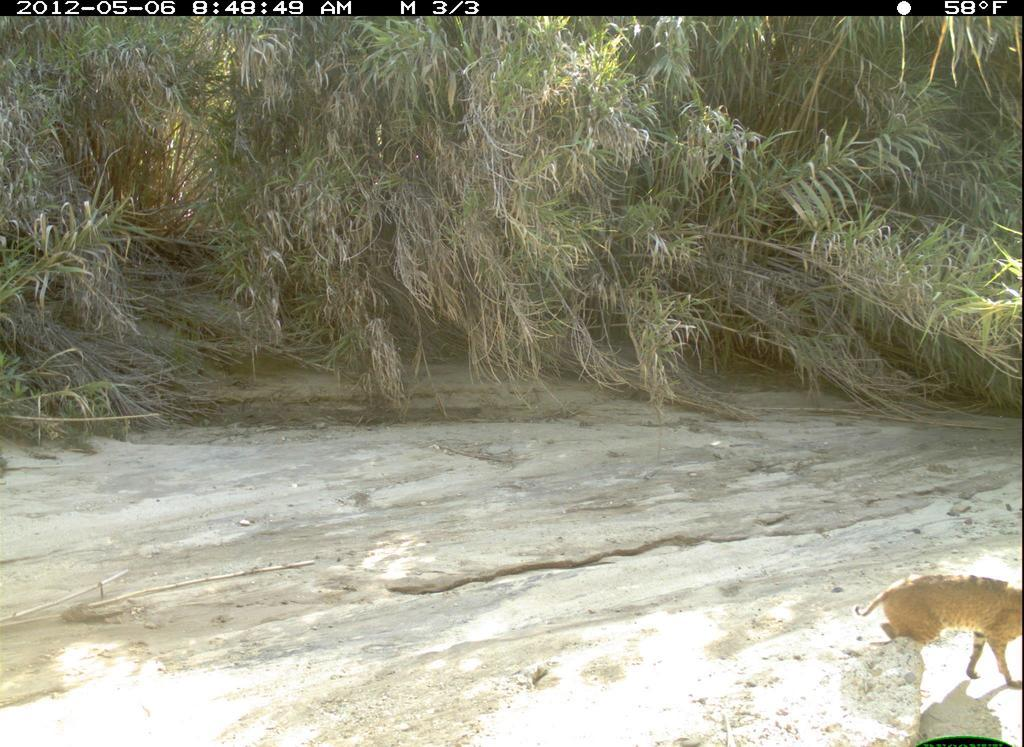bobcat: (844, 561, 1022, 699)
